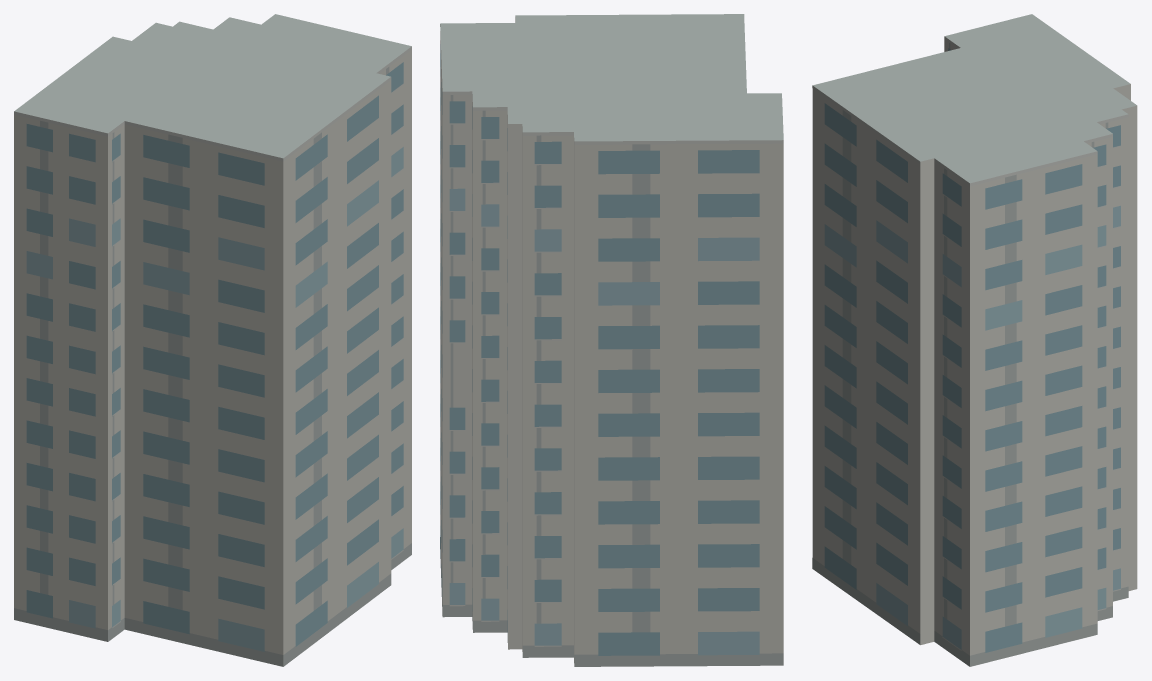
Rendered from residential-efe4a3c0-c071-4f4f-b587-fbafebebdab4.glb.
The picture shows the model from 3 angles, left to right: view 1: azimuth 30°, elevation 25°; view 2: azimuth 150°, elevation 25°; view 3: azimuth 270°, elevation 25°; orthographic projection. The views are drawn at different scales.
Visible parts, largest first — view 1: residential-efe4a3c0-c071-4f4f-b587-fbafebebdab4.tmp; view 2: residential-efe4a3c0-c071-4f4f-b587-fbafebebdab4.tmp; view 3: residential-efe4a3c0-c071-4f4f-b587-fbafebebdab4.tmp.
Boxes of the visible parts, box(x1,y1,x2,y2) form: residential-efe4a3c0-c071-4f4f-b587-fbafebebdab4.tmp: box(14, 14, 411, 666); residential-efe4a3c0-c071-4f4f-b587-fbafebebdab4.tmp: box(440, 14, 783, 666); residential-efe4a3c0-c071-4f4f-b587-fbafebebdab4.tmp: box(812, 14, 1137, 666).
Size of the model in its own units: 29.31 by 39 by 23.77.
